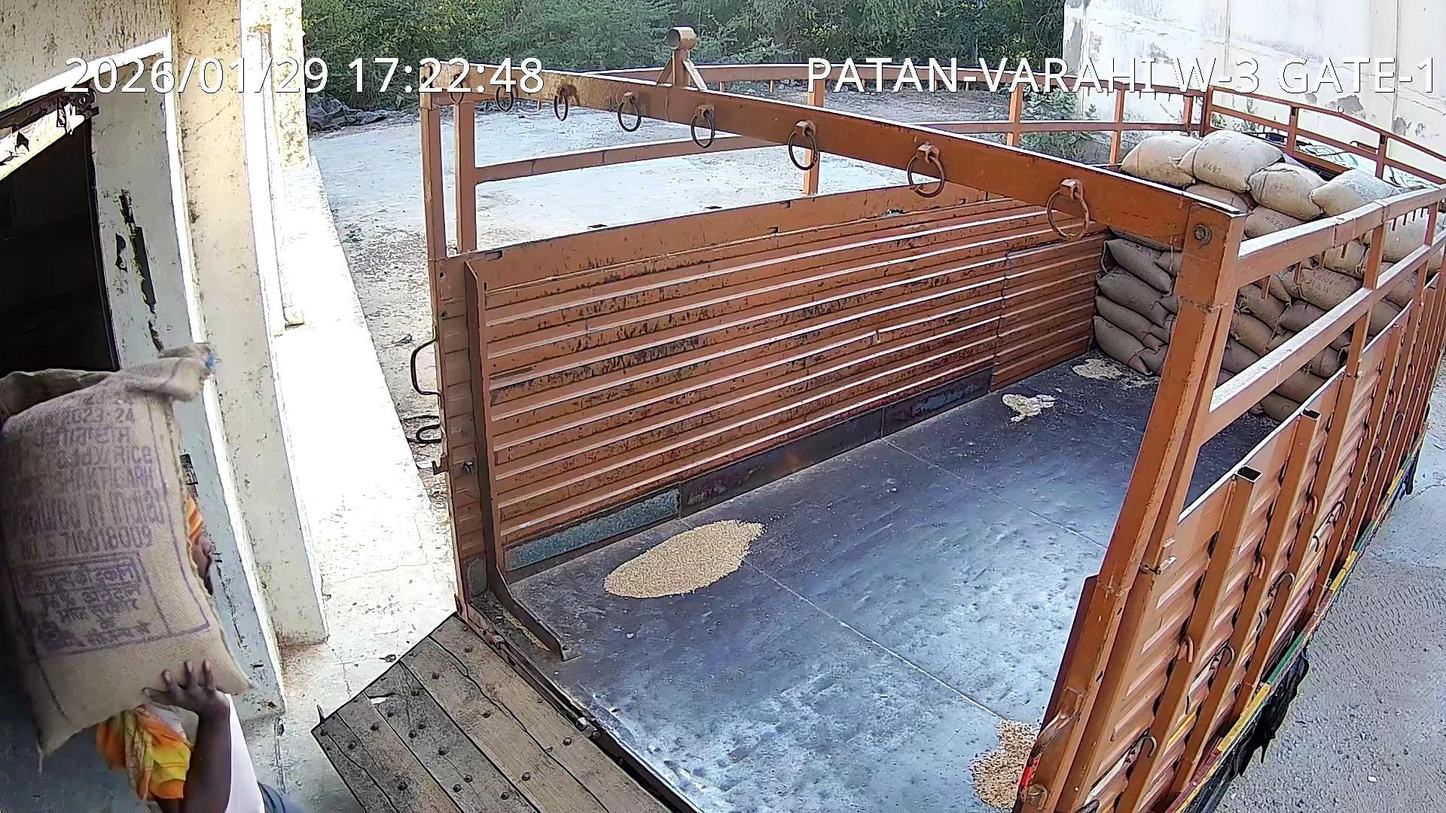Sack: (0, 346, 248, 752)
